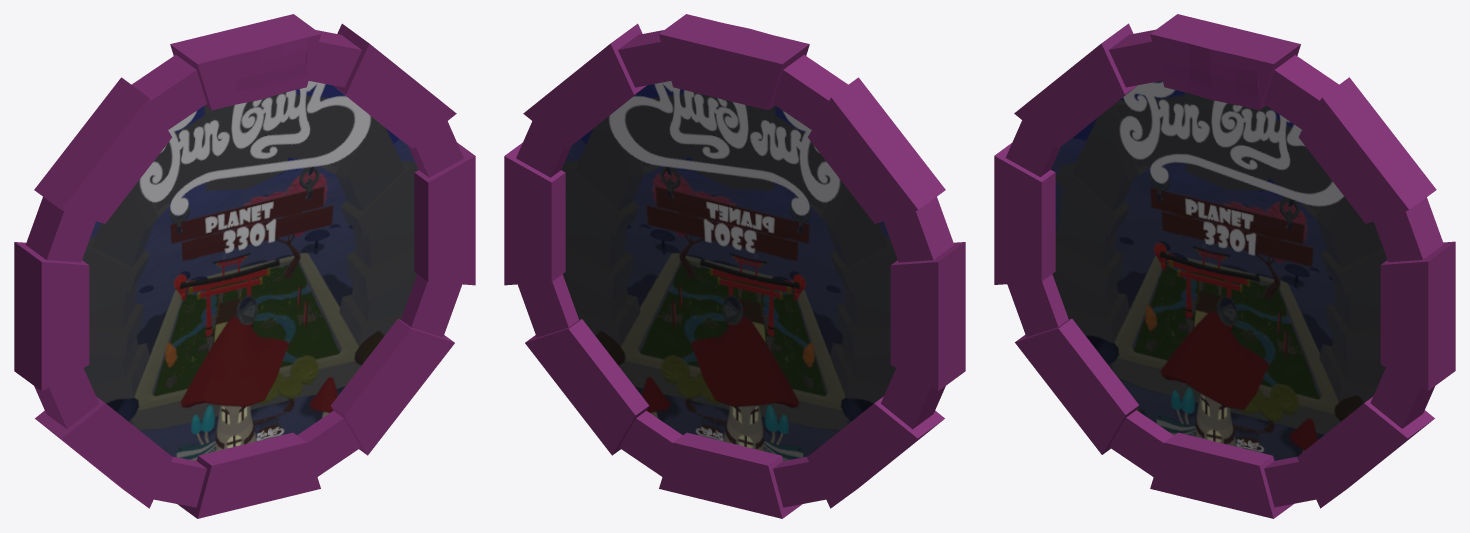
The model's file is fg_portal.glb.
3 views of the same model, side by side, from view 1: azimuth 30°, elevation 25°; view 2: azimuth 150°, elevation 25°; view 3: azimuth 330°, elevation 25° (orthographic).
Visible parts, largest first — view 1: Circle_action, Cube; view 2: Circle_action, Cube; view 3: Circle_action, Cube.
Part boxes in pixels (<box>): Circle_action: <box>82,81,418,460</box>; Cube: <box>14,14,475,518</box>; Circle_action: <box>561,81,897,460</box>; Cube: <box>504,14,965,518</box>; Circle_action: <box>1051,80,1387,460</box>; Cube: <box>994,14,1455,518</box>.
Bounding box in the file's own units: 2.28 × 2.29 × 0.2562.
Materials: 2 (1 with a texture image).
